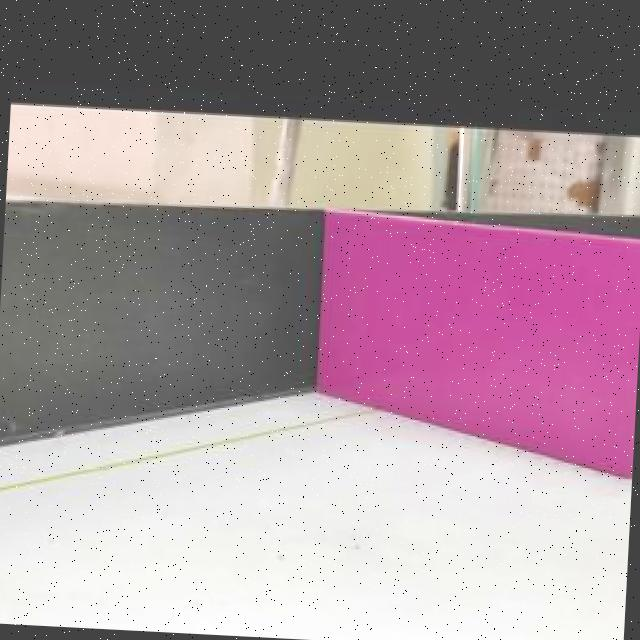xparking: (319, 230, 640, 468)
